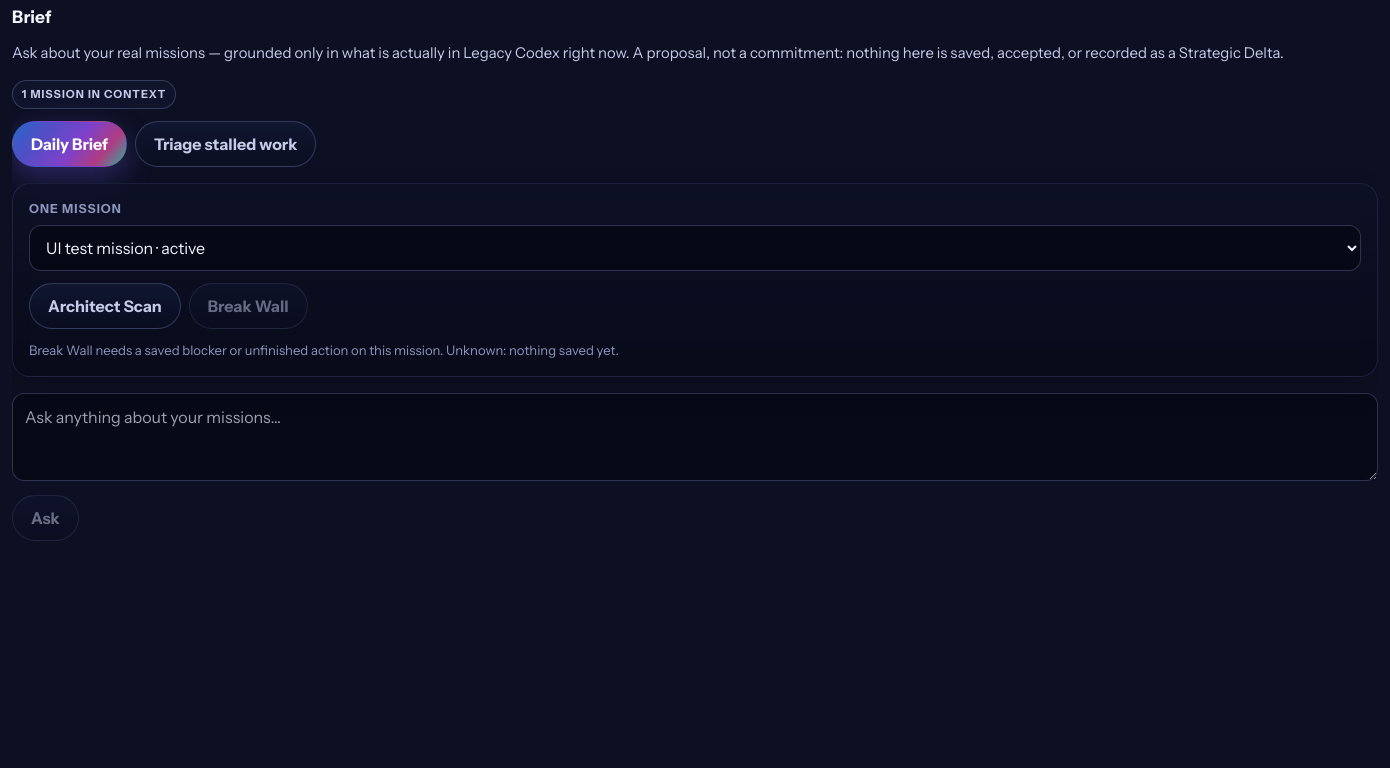
it: BriefTab visitor boundary › shows a visitor plain copy on 403 instead of an error, and stops offering the brief
Click the button "Daily Brief".
click(70, 144)  # box [12,121,127,167]
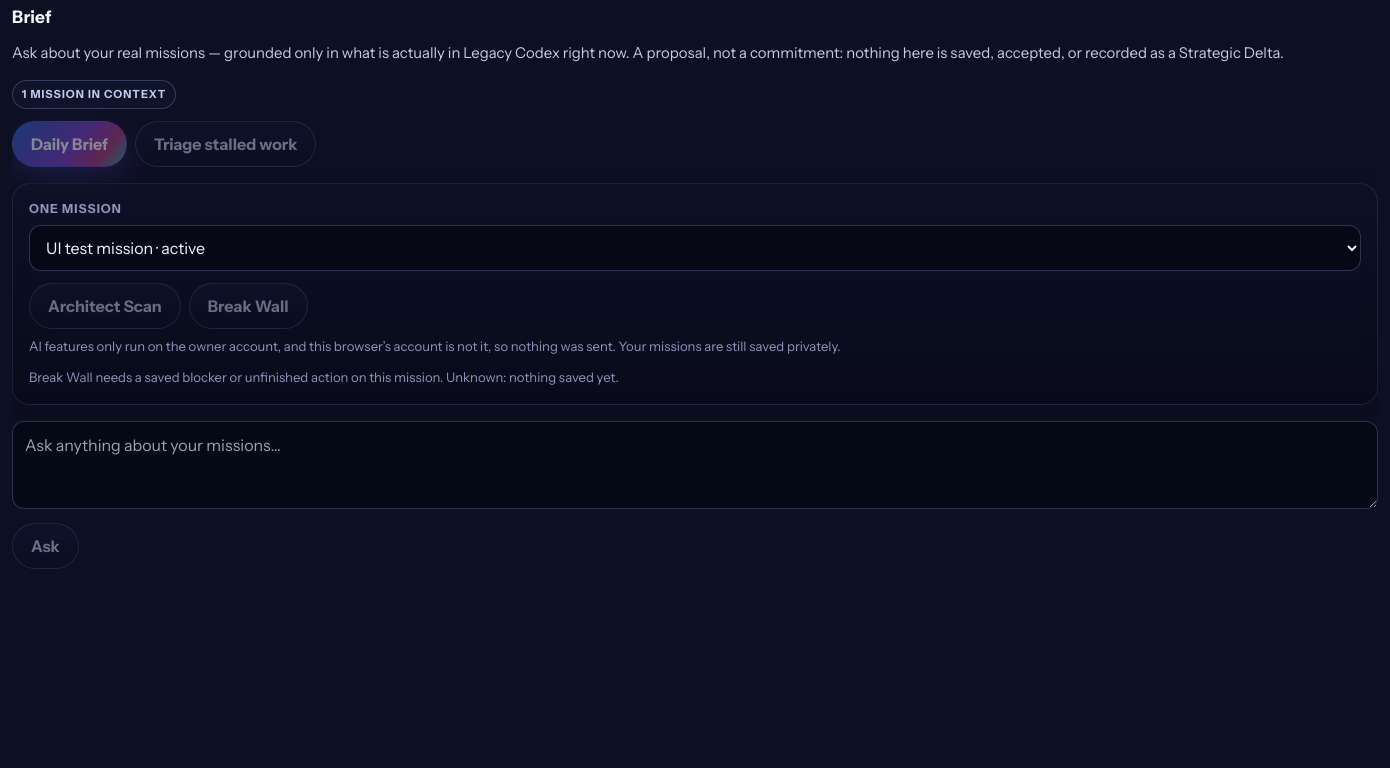
Expected: the text "AI features only run on the owner account, and this browser’s account is not it, so nothing was sent. Your missions are " is shown, [29,338,841,354]
Expected: the button "Daily Brief" is disabled, [12,121,127,167]
